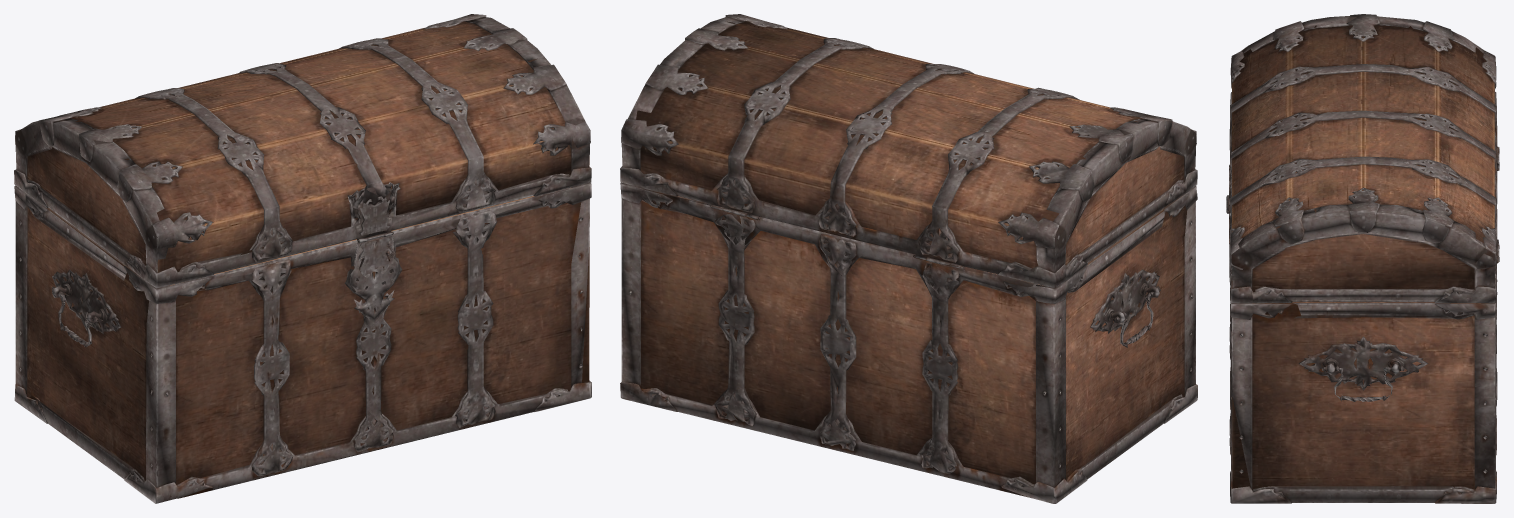
Rendered from treasure_chest.gltf.
3 renders of one model, left to right at view 1: azimuth 30°, elevation 25°; view 2: azimuth 150°, elevation 25°; view 3: azimuth 270°, elevation 25°, orthographic. The views are drawn at different scales.
Parts seen in each view (by area): view 1: treasure_chest_bottom, treasure_chest_lid, treasure_chest_lock; view 2: treasure_chest_bottom, treasure_chest_lid; view 3: treasure_chest_lid, treasure_chest_bottom, treasure_chest_handle_right.
Part boxes in pixels (bbox=[...]): treasure_chest_bottom: bbox=[14, 182, 591, 503]; treasure_chest_lid: bbox=[14, 14, 591, 288]; treasure_chest_lock: bbox=[350, 233, 398, 322]; treasure_chest_bottom: bbox=[620, 182, 1197, 503]; treasure_chest_lid: bbox=[620, 14, 1197, 288]; treasure_chest_lid: bbox=[1226, 14, 1499, 303]; treasure_chest_bottom: bbox=[1229, 131, 1499, 503]; treasure_chest_handle_right: bbox=[1322, 365, 1405, 401].
Size of the model in its own units: 0.959 by 0.618 by 0.5223.
1 material, 1 textured.
